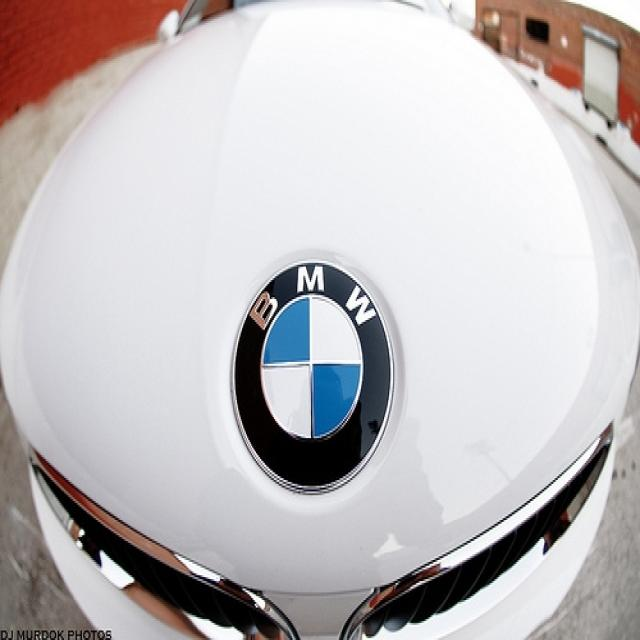bmw: (225, 250, 403, 502)
